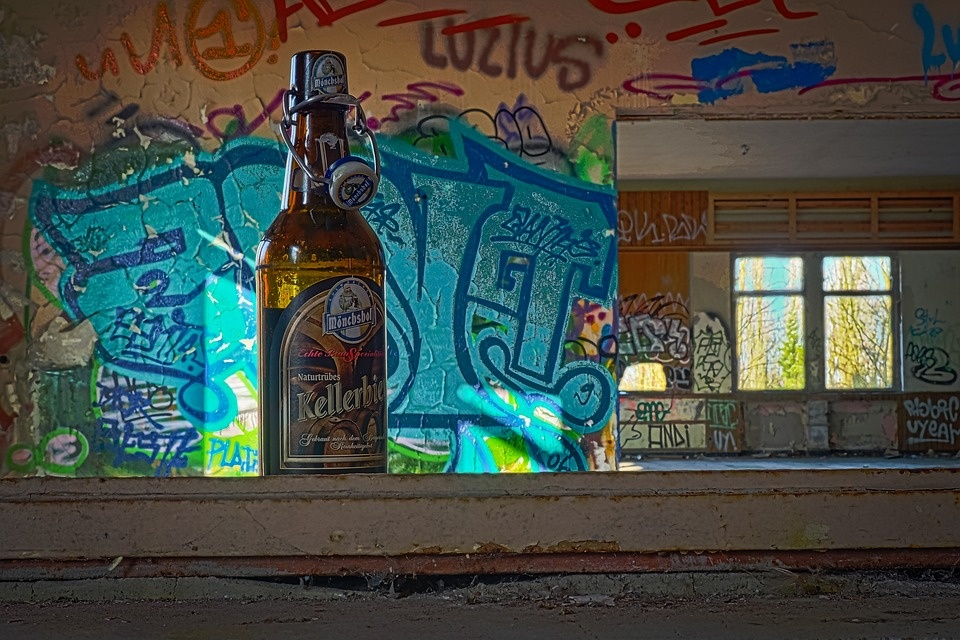beerBottle: (260, 55, 390, 471)
